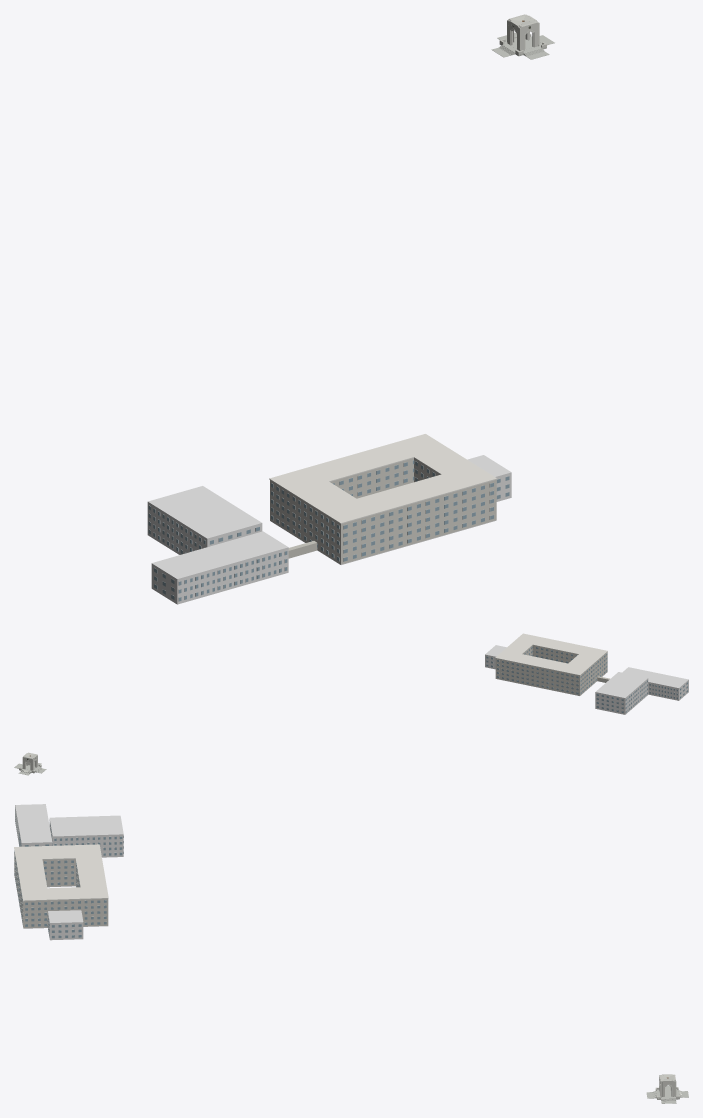
Rendered from SEU_building_patch_v10.glb.
The picture shows the model from 3 angles, top to bottom: view 1: azimuth 30°, elevation 25°; view 2: azimuth 150°, elevation 25°; view 3: azimuth 270°, elevation 25°; orthographic projection. The views are drawn at different scales.
Parts seen in each view (by area): view 1: SEU_B_OSMWAY_300030325_REUSE__A2_south, SEU_B_OSMWAY_300030325_REUSE__photo_eave_south, SEU_B_OSMWAY_300030325_REUSE__photo_eave_north, SEU_B_OSMWAY_300030325_REUSE__A2_entry_roof, SEU_B_OSMWAY_300030325_REUSE__A2_lowwest, SEU_B_OSMWAY_300030325_REUSE__A2_lowwest_roof, SEU_B_OSMWAY_300030325_REUSE__A2_north, SEU_B_OSMWAY_300030325_REUSE__DETAIL_GLAZING_A2_south, SEU_B_OSMWAY_300030325_REUSE__A2_entry, SEU_B_OSMWAY_300030325_REUSE__DETAIL_FRAME_A2_south, SEU_B_OSMWAY_300030325_REUSE__photo_eave_west, SEU_B_OSMWAY_300030325_REUSE__A2_west (+2 smaller); view 2: SEU_B_OSMWAY_300030325_REUSE__A2_north, SEU_B_OSMWAY_300030325_REUSE__photo_eave_north, SEU_B_OSMWAY_300030325_REUSE__photo_eave_south, SEU_B_OSMWAY_300030325_REUSE__A2_entry, SEU_B_OSMWAY_300030325_REUSE__A2_entry_roof, SEU_B_OSMWAY_300030325_REUSE__DETAIL_GLAZING_A2_north, SEU_B_OSMWAY_300030325_REUSE__A2_lowwest_roof, SEU_B_OSMWAY_300030325_REUSE__A2_south, SEU_B_OSMWAY_300030325_REUSE__A2_lowwest, SEU_B_OSMWAY_300030325_REUSE__DETAIL_GLAZING_A2_entry, SEU_B_OSMWAY_300030325_REUSE__photo_eave_west, SEU_B_OSMWAY_300030325_REUSE__DETAIL_FRAME_A2_north; view 3: SEU_B_OSMWAY_300030325_REUSE__photo_eave_south, SEU_B_OSMWAY_300030325_REUSE__photo_eave_north, SEU_B_OSMWAY_300030325_REUSE__A2_entry_roof, SEU_B_OSMWAY_300030325_REUSE__A2_lowwest_roof, SEU_B_OSMWAY_300030325_REUSE__A2_entry, SEU_B_OSMWAY_300030325_REUSE__A2_south, SEU_B_OSMWAY_300030325_REUSE__A2_west, SEU_B_OSMWAY_300030325_REUSE__A2_north, SEU_B_OSMWAY_300030325_REUSE__A2_loweast, SEU_B_OSMWAY_300030325_REUSE__photo_eave_west.
Part boxes in pixels (x1=…): SEU_B_OSMWAY_300030325_REUSE__A2_south: x1=319, y1=480, x2=496, y2=564; SEU_B_OSMWAY_300030325_REUSE__photo_eave_south: x1=319, y1=465, x2=497, y2=523; SEU_B_OSMWAY_300030325_REUSE__photo_eave_north: x1=269, y1=434, x2=446, y2=492; SEU_B_OSMWAY_300030325_REUSE__A2_entry_roof: x1=147, y1=486, x2=262, y2=539; SEU_B_OSMWAY_300030325_REUSE__A2_lowwest: x1=151, y1=548, x2=288, y2=603; SEU_B_OSMWAY_300030325_REUSE__A2_lowwest_roof: x1=151, y1=531, x2=288, y2=579; SEU_B_OSMWAY_300030325_REUSE__A2_north: x1=270, y1=458, x2=413, y2=532; SEU_B_OSMWAY_300030325_REUSE__DETAIL_GLAZING_A2_south: x1=321, y1=483, x2=493, y2=561; SEU_B_OSMWAY_300030325_REUSE__A2_entry: x1=147, y1=503, x2=262, y2=554; SEU_B_OSMWAY_300030325_REUSE__DETAIL_FRAME_A2_south: x1=320, y1=482, x2=494, y2=561; SEU_B_OSMWAY_300030325_REUSE__photo_eave_west: x1=290, y1=481, x2=356, y2=509; SEU_B_OSMWAY_300030325_REUSE__A2_west: x1=291, y1=493, x2=319, y2=550; SEU_B_OSMWAY_300030325_REUSE__A2_north: x1=495, y1=658, x2=588, y2=695; SEU_B_OSMWAY_300030325_REUSE__photo_eave_north: x1=495, y1=650, x2=588, y2=675; SEU_B_OSMWAY_300030325_REUSE__photo_eave_south: x1=515, y1=633, x2=607, y2=657; SEU_B_OSMWAY_300030325_REUSE__A2_entry: x1=595, y1=679, x2=648, y2=714; SEU_B_OSMWAY_300030325_REUSE__A2_entry_roof: x1=595, y1=672, x2=648, y2=698; SEU_B_OSMWAY_300030325_REUSE__DETAIL_GLAZING_A2_north: x1=497, y1=660, x2=587, y2=694; SEU_B_OSMWAY_300030325_REUSE__A2_lowwest_roof: x1=622, y1=667, x2=688, y2=688; SEU_B_OSMWAY_300030325_REUSE__A2_south: x1=532, y1=645, x2=607, y2=676; SEU_B_OSMWAY_300030325_REUSE__A2_lowwest: x1=648, y1=680, x2=688, y2=700; SEU_B_OSMWAY_300030325_REUSE__DETAIL_GLAZING_A2_entry: x1=596, y1=680, x2=647, y2=712; SEU_B_OSMWAY_300030325_REUSE__photo_eave_west: x1=568, y1=654, x2=599, y2=667; SEU_B_OSMWAY_300030325_REUSE__DETAIL_FRAME_A2_north: x1=496, y1=659, x2=587, y2=693; SEU_B_OSMWAY_300030325_REUSE__photo_eave_south: x1=14, y1=846, x2=48, y2=900; SEU_B_OSMWAY_300030325_REUSE__photo_eave_north: x1=73, y1=844, x2=108, y2=898; SEU_B_OSMWAY_300030325_REUSE__A2_entry_roof: x1=49, y1=815, x2=123, y2=836; SEU_B_OSMWAY_300030325_REUSE__A2_lowwest_roof: x1=15, y1=804, x2=52, y2=843; SEU_B_OSMWAY_300030325_REUSE__A2_entry: x1=49, y1=820, x2=123, y2=857; SEU_B_OSMWAY_300030325_REUSE__A2_south: x1=14, y1=852, x2=48, y2=928; SEU_B_OSMWAY_300030325_REUSE__A2_west: x1=42, y1=859, x2=75, y2=886; SEU_B_OSMWAY_300030325_REUSE__A2_north: x1=76, y1=865, x2=108, y2=926; SEU_B_OSMWAY_300030325_REUSE__A2_loweast: x1=48, y1=913, x2=83, y2=939; SEU_B_OSMWAY_300030325_REUSE__photo_eave_west: x1=39, y1=845, x2=76, y2=859.
Bounding box in the file's own units: 437 × 20.62 × 441.
